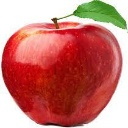apple: (2, 21, 123, 126)
